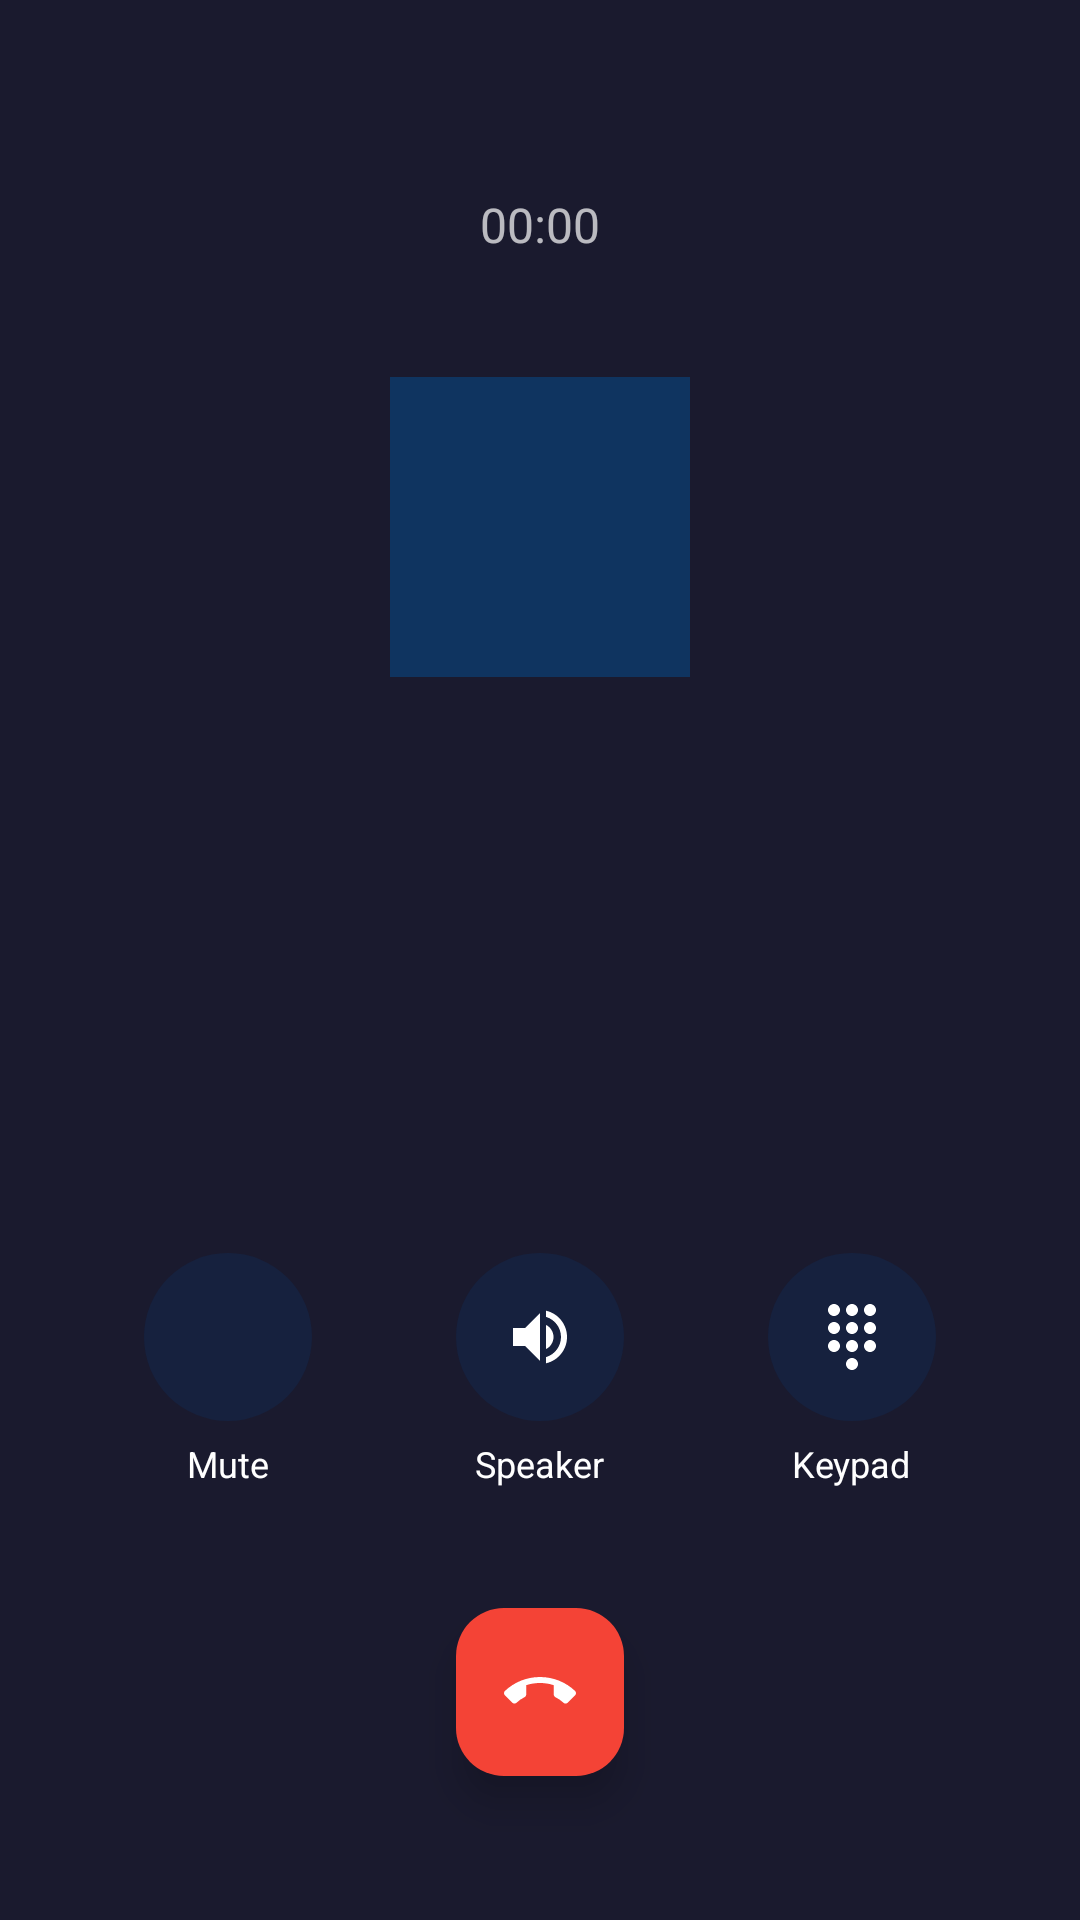

Where to tap for icons on this 1080*1920 app screen, as (x=x, y=y):
End Call: (x=540, y=1692)
